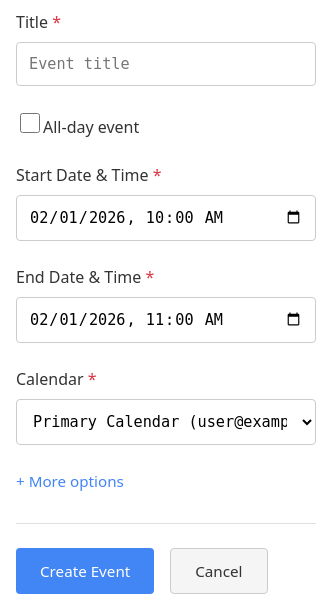
Test: EventForm Component › All-Day Toggle Behavior › should preserve chosen time when toggling all-day on
# Toggle all-day
What coordinates should you click on to do the following:
click the checkbox labelled "All-day event"
I would click on:
 (30, 123)
Its box is [20,113,40,133].
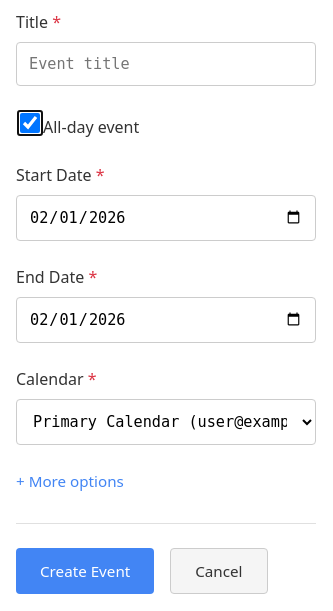
Now the date field labelled "Start Date *" holds "2026-02-01", box [16,195,316,241]
Now the date field labelled "End Date *" holds "2026-02-01", box [16,297,316,343]
